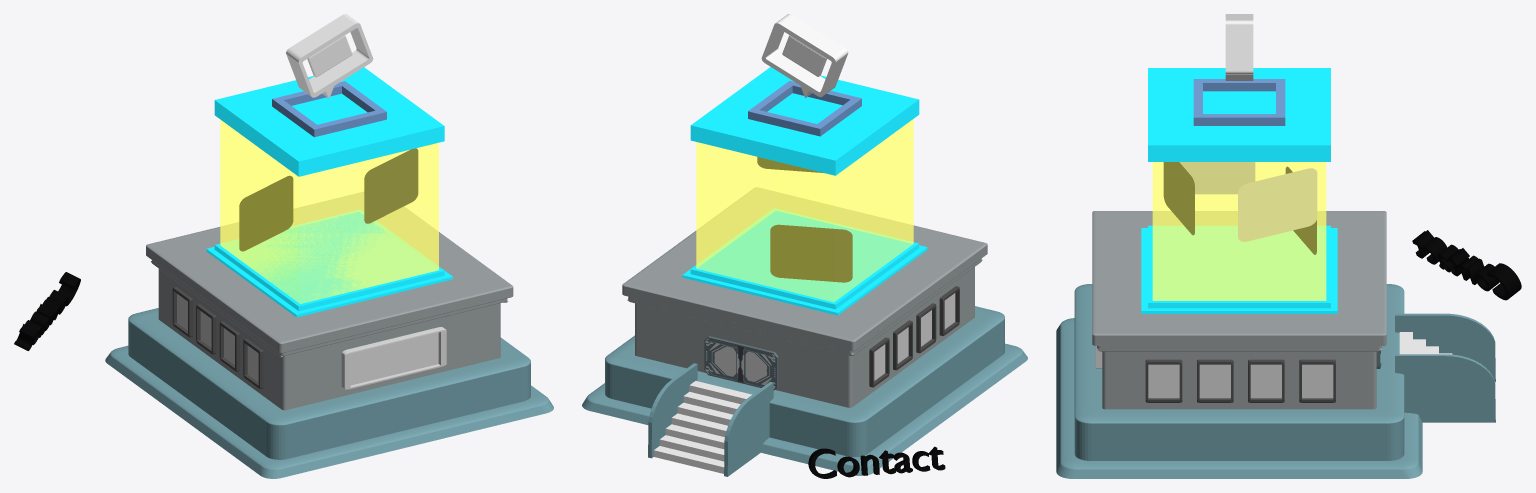
Rendered from building.glb.
3 renders of one model, left to right at view 1: azimuth 30°, elevation 25°; view 2: azimuth 150°, elevation 25°; view 3: azimuth 270°, elevation 25°, orthographic. The views are drawn at different scales.
Parts seen in each view (by area): view 1: Building1.etage, Building1.floor, Building1.digitalWindow, Building1.digitalWindowBorder, Building1.windowBack, Building1.letter, Building1.etageWindow, Building1.screen1, Building1.screen3, Building1.top, Building1.text; view 2: Building1.etage, Building1.digitalWindow, Building1.floor, Building1.digitalWindowBorder, Building1.stairs, Building1.stairsHolding, Building1.screen1, Building1.letter, Building1.etageWindow, Building1.door, Building1.top, Building1.text; view 3: Building1.etage, Building1.floor, Building1.digitalWindowBorder, Building1.digitalWindow, Building1.stairsHolding, Building1.etageWindow, Building1.screen4, Building1.text, Building1.top, Building1.screen2, Building1.letter, Building1.screen3 (+1 smaller).
Boxes of the visible parts, x1,y1,x2,y2 form: Building1.etage: (146, 192, 513, 410); Building1.floor: (105, 308, 553, 478); Building1.digitalWindow: (220, 119, 438, 303); Building1.digitalWindowBorder: (206, 67, 452, 317); Building1.windowBack: (341, 327, 446, 390); Building1.letter: (286, 14, 373, 98); Building1.etageWindow: (172, 287, 263, 388); Building1.screen1: (239, 175, 293, 251); Building1.screen3: (364, 148, 418, 223); Building1.top: (272, 81, 386, 137); Building1.text: (14, 272, 80, 350); Building1.etage: (622, 187, 987, 407); Building1.digitalWindow: (696, 119, 913, 301); Building1.floor: (582, 306, 1027, 475); Building1.digitalWindowBorder: (682, 67, 927, 315); Building1.stairs: (653, 381, 751, 473); Building1.stairsHolding: (648, 363, 773, 476); Building1.screen1: (770, 224, 852, 282); Building1.letter: (761, 14, 848, 98); Building1.etageWindow: (869, 286, 959, 387); Building1.door: (704, 336, 778, 390); Building1.top: (748, 81, 861, 136); Building1.text: (808, 446, 945, 478); Building1.etage: (1092, 211, 1386, 409); Building1.floor: (1056, 284, 1422, 478); Building1.digitalWindowBorder: (1141, 68, 1337, 313); Building1.digitalWindow: (1152, 162, 1326, 300); Building1.stairsHolding: (1395, 313, 1495, 422); Building1.etageWindow: (1145, 359, 1335, 402); Building1.screen4: (1238, 168, 1317, 241); Building1.text: (1412, 230, 1521, 300); Building1.top: (1193, 79, 1285, 125); Building1.screen2: (1179, 162, 1255, 194); Building1.letter: (1225, 14, 1253, 80); Building1.screen3: (1163, 162, 1194, 235).
Bounding box in the file's own units: 10.27 × 9.45 × 10.16.
